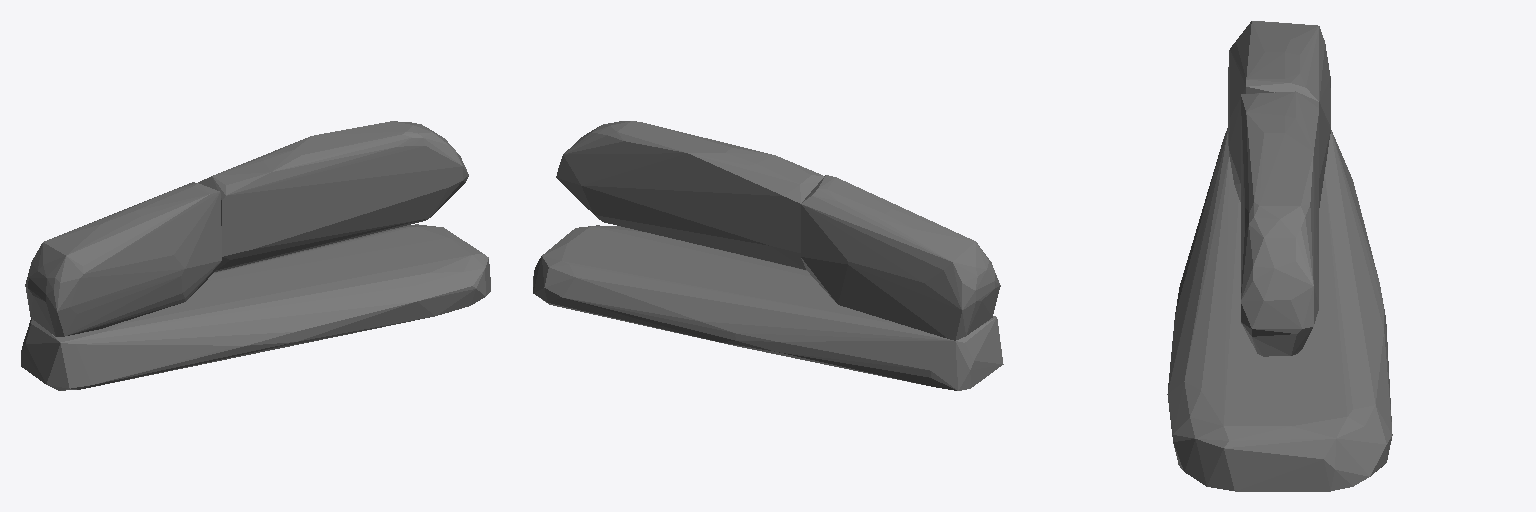
robot.urdf — stapler_003:
<?xml version="1.0" ?>
<robot name="stapler_003">
  <material name="color">
    <color rgba=".5 .5 .5 1"/>
  </material>

  <link name="base_link">
    <contact>
      <lateral_friction value="1.0"/>
      <rolling_friction value="0.001"/>
      <spinning_friction value="0.001"/>
      <inertia_scaling value="1.0"/>
    </contact>
    <inertial>
      <origin rpy="0 0 0" xyz="-0.000683807 -0.00017328 -0.00874223"/>
       <mass value="0.1"/>
       <inertia ixx="1" ixy="0" ixz="0" iyy="1" iyz="0" izz="1"/>
    </inertial>

    <visual>
      <origin rpy="0 0 0" xyz="0 0 0"/>
      <geometry>
        <mesh filename="stapler_003_vhacd_0_of_3.obj" scale="1 1 1"/>
      </geometry>
      <material name="color"/>
    </visual>
    <visual>
      <origin rpy="0 0 0" xyz="0 0 0"/>
      <geometry>
        <mesh filename="stapler_003_vhacd_1_of_3.obj" scale="1 1 1"/>
      </geometry>
      <material name="color"/>
    </visual>
    <visual>
      <origin rpy="0 0 0" xyz="0 0 0"/>
      <geometry>
        <mesh filename="stapler_003_vhacd_2_of_3.obj" scale="1 1 1"/>
      </geometry>
      <material name="color"/>
    </visual>

    <collision>
      <origin rpy="0 0 0" xyz="0 0 0"/>
      <geometry>
        <mesh filename="stapler_003_vhacd_0_of_3.obj" scale="1 1 1"/>
      </geometry>
    </collision>
    <collision>
      <origin rpy="0 0 0" xyz="0 0 0"/>
      <geometry>
        <mesh filename="stapler_003_vhacd_1_of_3.obj" scale="1 1 1"/>
      </geometry>
    </collision>
    <collision>
      <origin rpy="0 0 0" xyz="0 0 0"/>
      <geometry>
        <mesh filename="stapler_003_vhacd_2_of_3.obj" scale="1 1 1"/>
      </geometry>
    </collision>

  </link>
</robot>

--- Facts derived from the render (not from the file) ---
The picture shows the robot from 3 angles, left to right: view 1: azimuth 30°, elevation 25°; view 2: azimuth 150°, elevation 25°; view 3: azimuth 270°, elevation 25°; orthographic projection.
Model stapler_003 with 1 links and 0 joints (none), rooted at base_link, posed every joint at zero.
Links seen in each view (by area): view 1: base_link; view 2: base_link; view 3: base_link.
Boxes of the visible links, x1=… form: base_link: x1=21, y1=121, x2=490, y2=390; base_link: x1=533, y1=121, x2=1003, y2=390; base_link: x1=1167, y1=21, x2=1392, y2=491.
Size in the robot's own frame: 0.148 by 0.0455 by 0.0535 metres.
3 mesh visuals loaded from 3 distinct referenced files (3 OBJ).